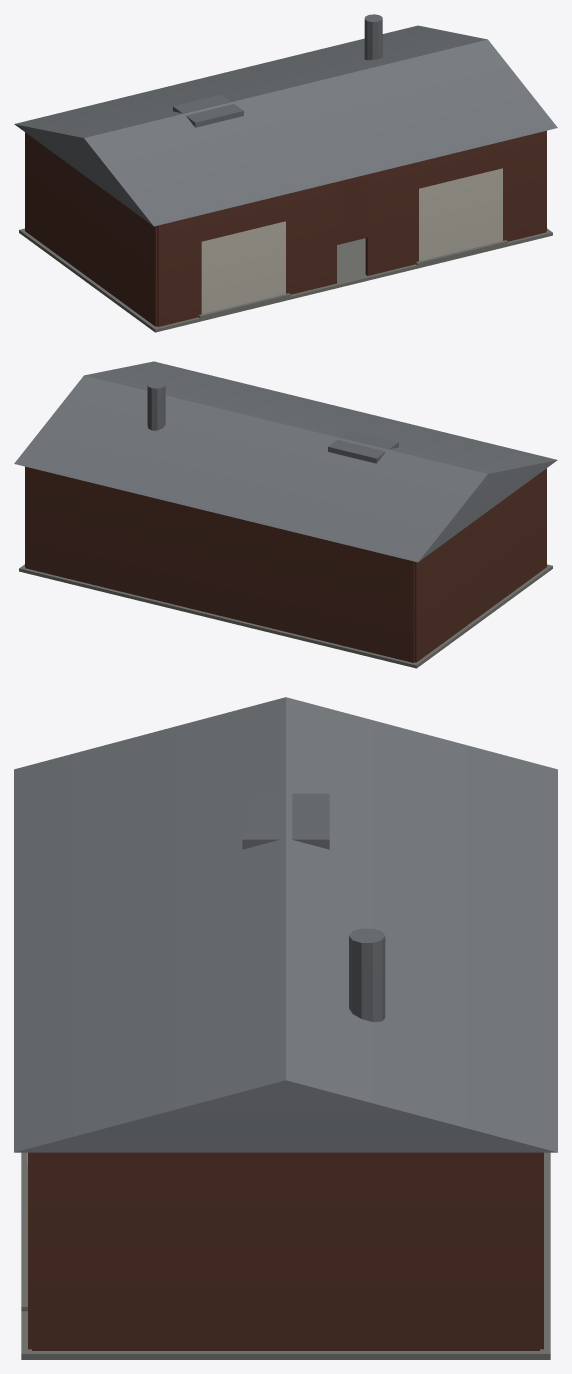
File: town_city_works.glb
The picture shows the model from 3 angles, top to bottom: view 1: azimuth 30°, elevation 25°; view 2: azimuth 150°, elevation 25°; view 3: azimuth 270°, elevation 25°; orthographic projection. The views are drawn at different scales.
Parts seen in each view (by area): view 1: prop; view 2: prop; view 3: prop.
Boxes of the visible parts, <box> form: prop: <box>14,14,557,332</box>; prop: <box>14,361,557,668</box>; prop: <box>14,697,557,1359</box>.
Size of the model in its own units: 25 by 10.3 by 15.
